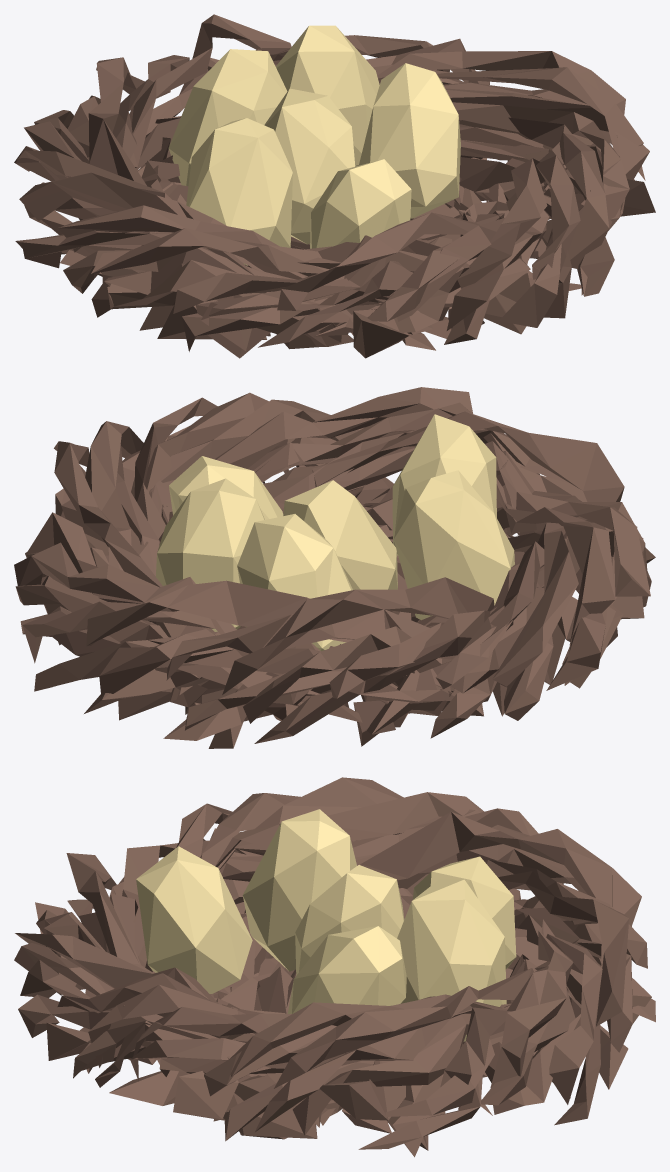
Rendered from Nest_17.fbx.
3 views of the same model, one above another, from view 1: azimuth 30°, elevation 25°; view 2: azimuth 150°, elevation 25°; view 3: azimuth 270°, elevation 25° (orthographic). The views are drawn at different scales.
Visible parts, largest first — view 1: Nest_17_LOD0; view 2: Nest_17_LOD0; view 3: Nest_17_LOD0.
Boxes of the visible parts, <box> form: Nest_17_LOD0: <box>14,14,655,358</box>; Nest_17_LOD0: <box>14,387,655,748</box>; Nest_17_LOD0: <box>14,777,655,1157</box>.
Size of what is drawn, in the model's own units: 47.77 by 17.65 by 46.28.
